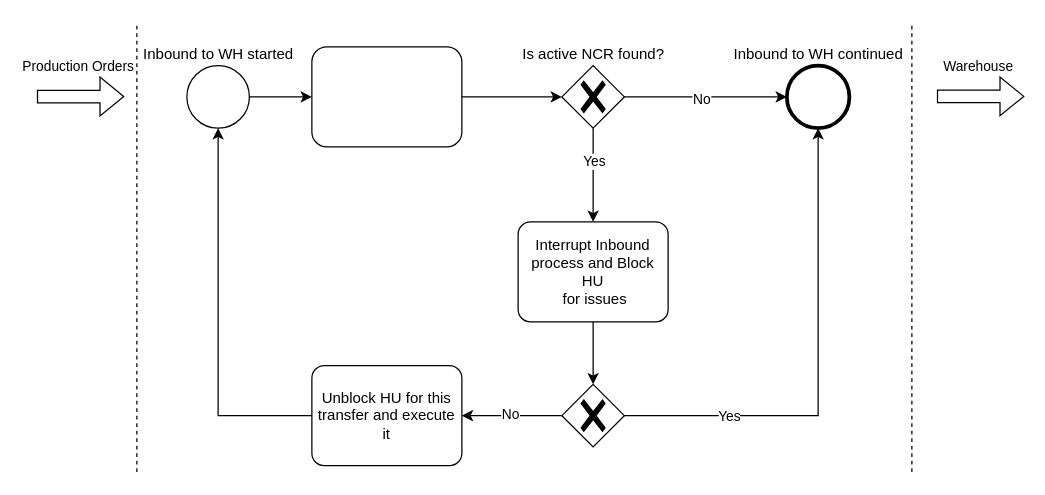
The diagram is 1045 pixels wide and 495 high, and some of its shapes have lost their labels. Each missing label, with the centre of its shape:
Check for active NCRs: point (386, 96)
Manual transfer initiated?: point (592, 415)
